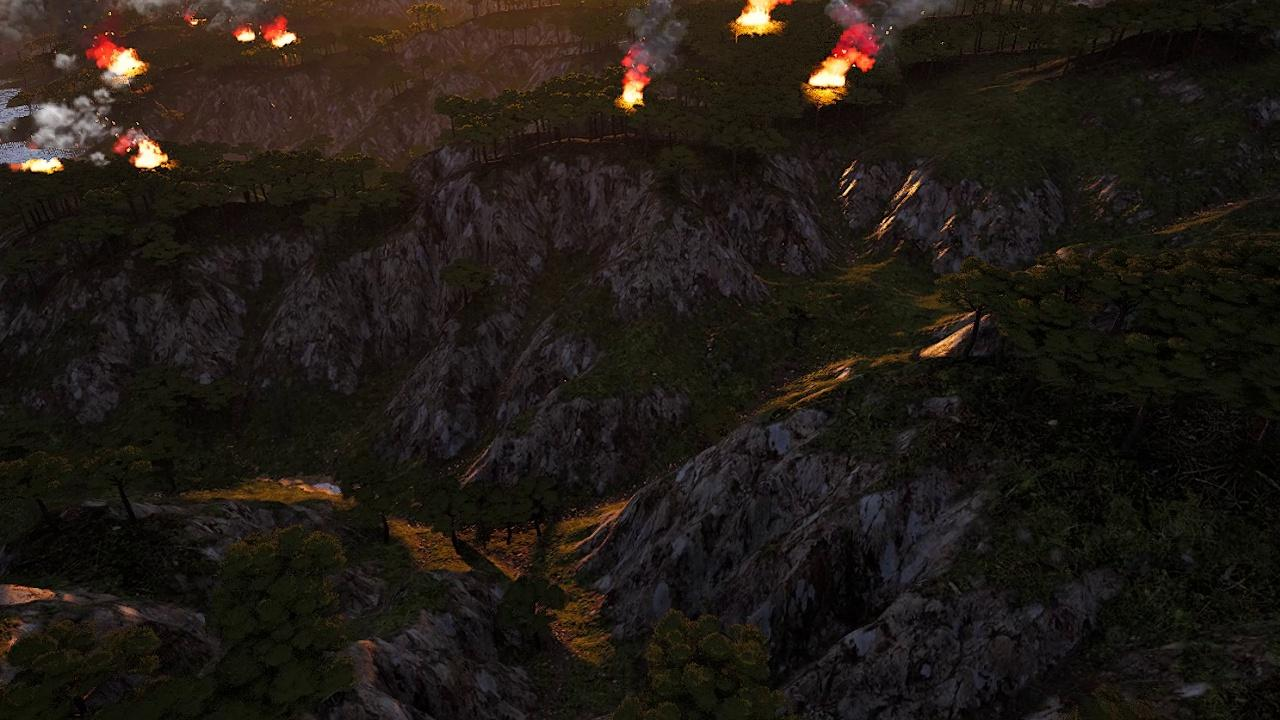fire: (808, 26, 881, 94), (87, 38, 147, 77), (617, 61, 652, 111), (733, 0, 779, 32), (126, 141, 167, 171), (7, 157, 68, 173), (235, 26, 258, 48), (270, 30, 298, 47)
smoke: (0, 3, 136, 161), (825, 0, 947, 60), (632, 0, 695, 79)
